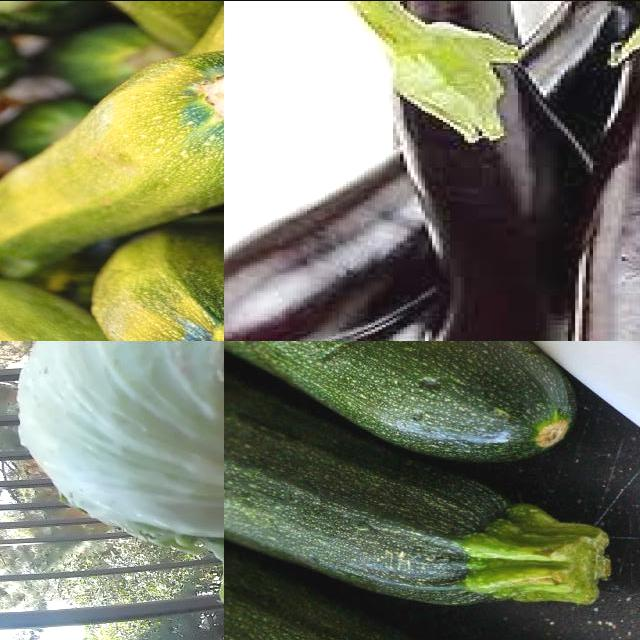cabbage: (11, 341, 225, 559)
eggplant: (293, 1, 504, 341), (383, 27, 572, 341), (568, 13, 640, 341)
zucchini: (1, 26, 225, 273), (225, 572, 640, 640)
